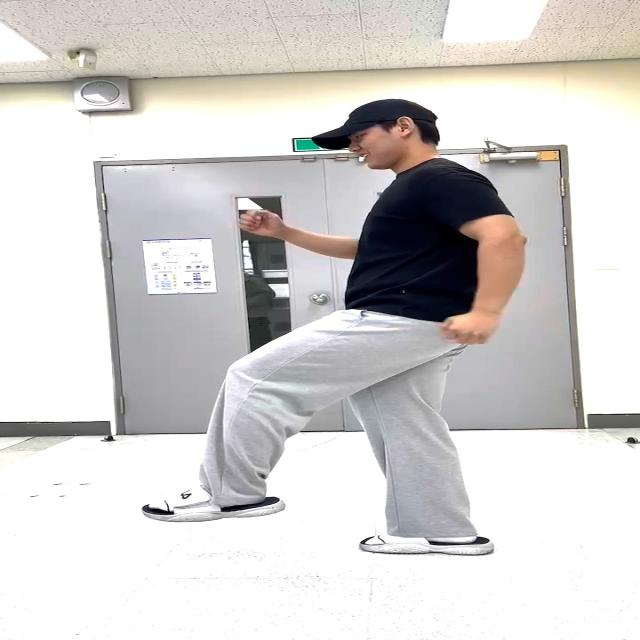leg: (162, 322, 358, 516)
